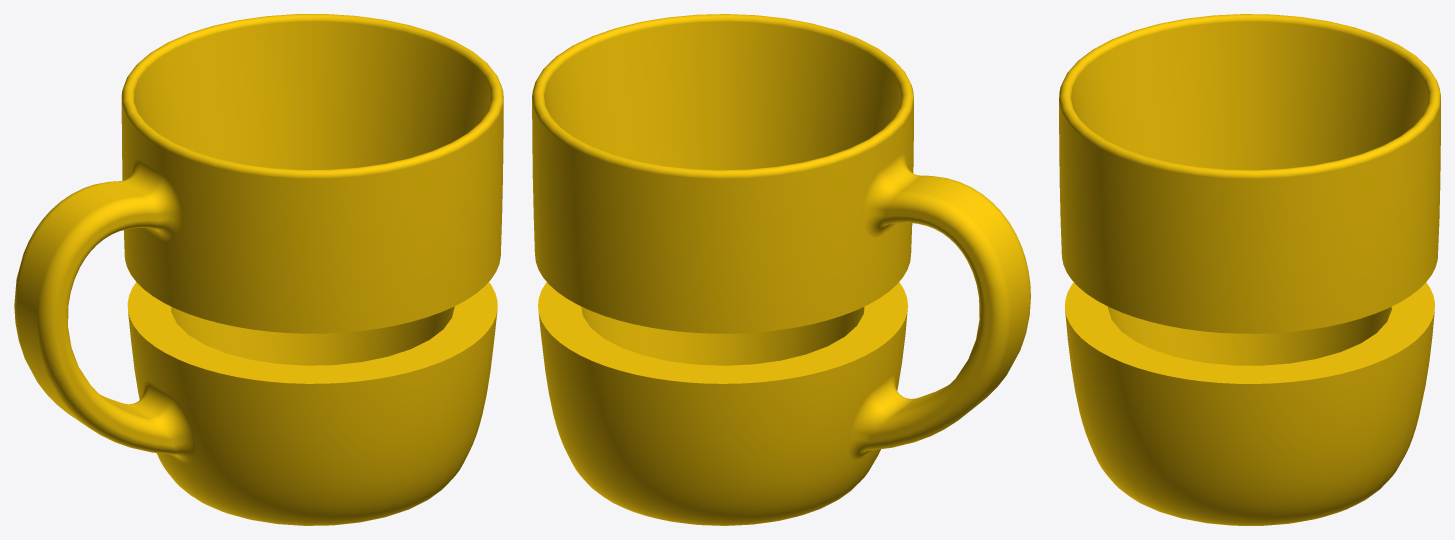
File: cup2.glb
3 views of the same model, side by side, from view 1: azimuth 30°, elevation 25°; view 2: azimuth 150°, elevation 25°; view 3: azimuth 270°, elevation 25° (orthographic).
Visible parts, largest first — view 1: cup4.003; view 2: cup4.003; view 3: cup4.003.
Part boxes in pixels (<box>): cup4.003: <box>14,14,503,525</box>; cup4.003: <box>532,14,1030,525</box>; cup4.003: <box>1059,14,1440,525</box>.
Size of the model in its own units: 0.8291 by 0.6521 by 0.5996.
